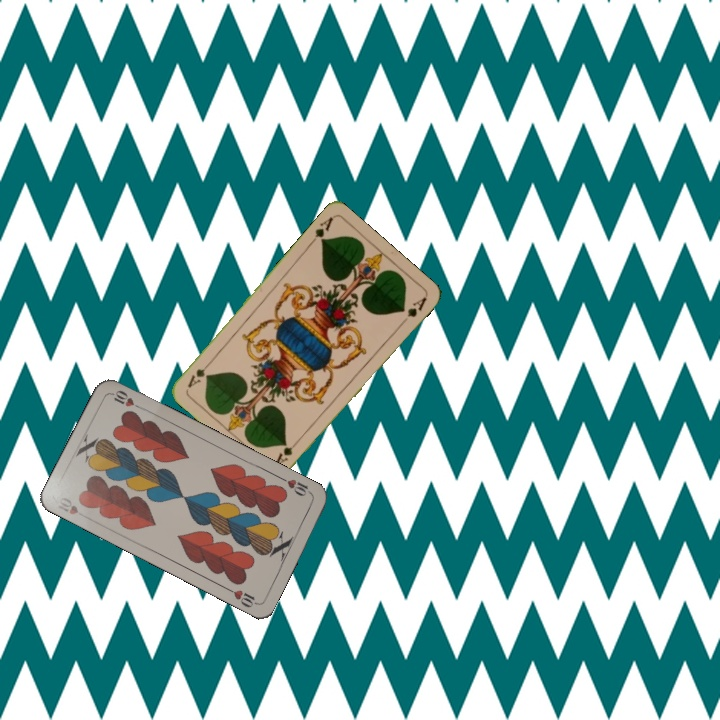GA: (271, 434, 303, 469), (305, 213, 336, 247)
H10: (53, 493, 91, 521), (277, 473, 315, 499)
